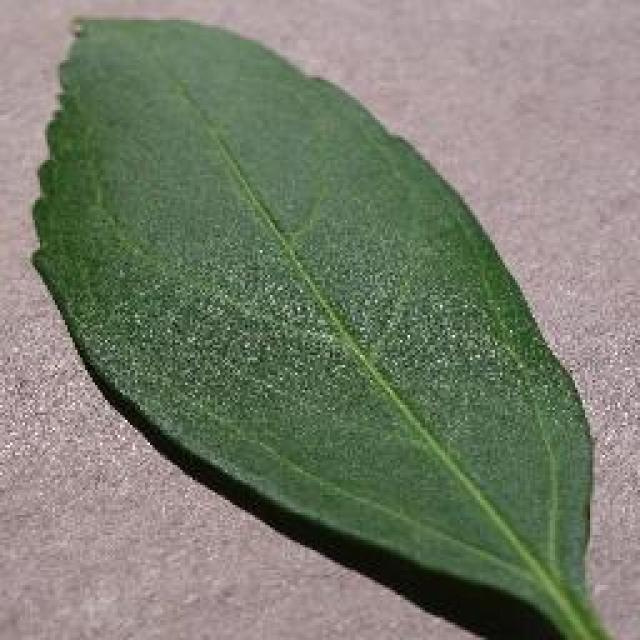Cherry___healthy: (10, 2, 630, 640)
